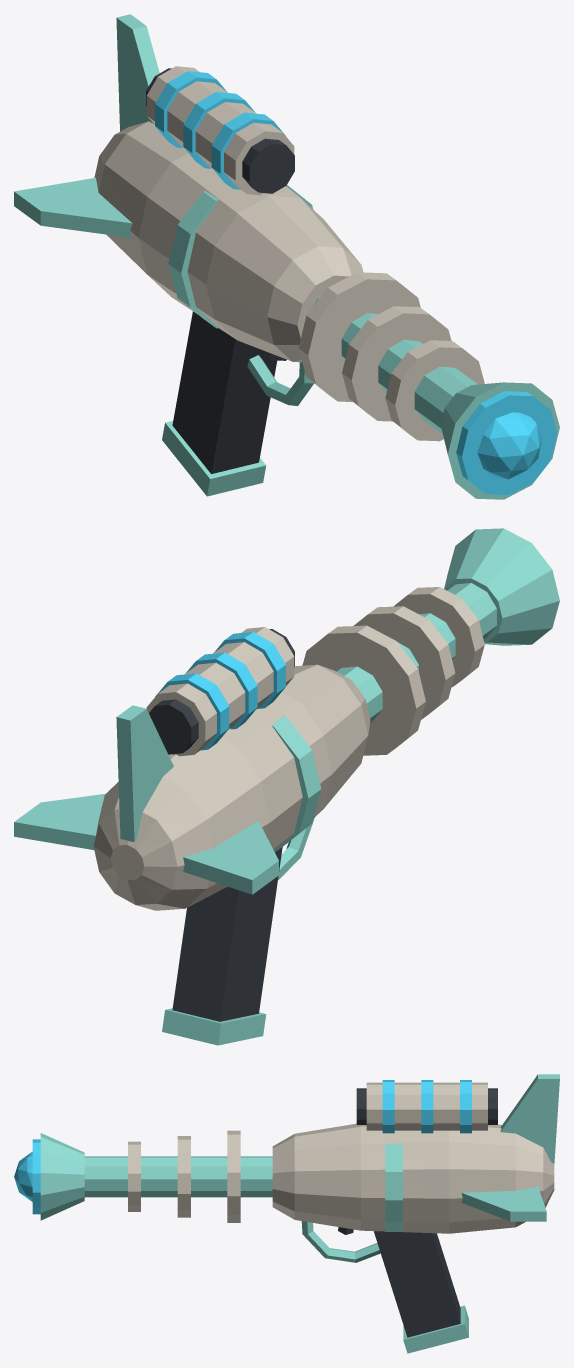
File: LaserGun.obj
3 renders of one model, top to bottom at view 1: azimuth 30°, elevation 25°; view 2: azimuth 150°, elevation 25°; view 3: azimuth 270°, elevation 25°, orthographic. The views are drawn at different scales.
Visible parts, largest first — view 1: LaserGun; view 2: LaserGun; view 3: LaserGun.
Part boxes in pixels (box(x1,y1,x2,y2)): LaserGun: box(14, 14, 559, 499); LaserGun: box(14, 528, 559, 1045); LaserGun: box(14, 1074, 559, 1353).
Size of the model in its own units: 0.17 by 0.2672 by 0.494.
